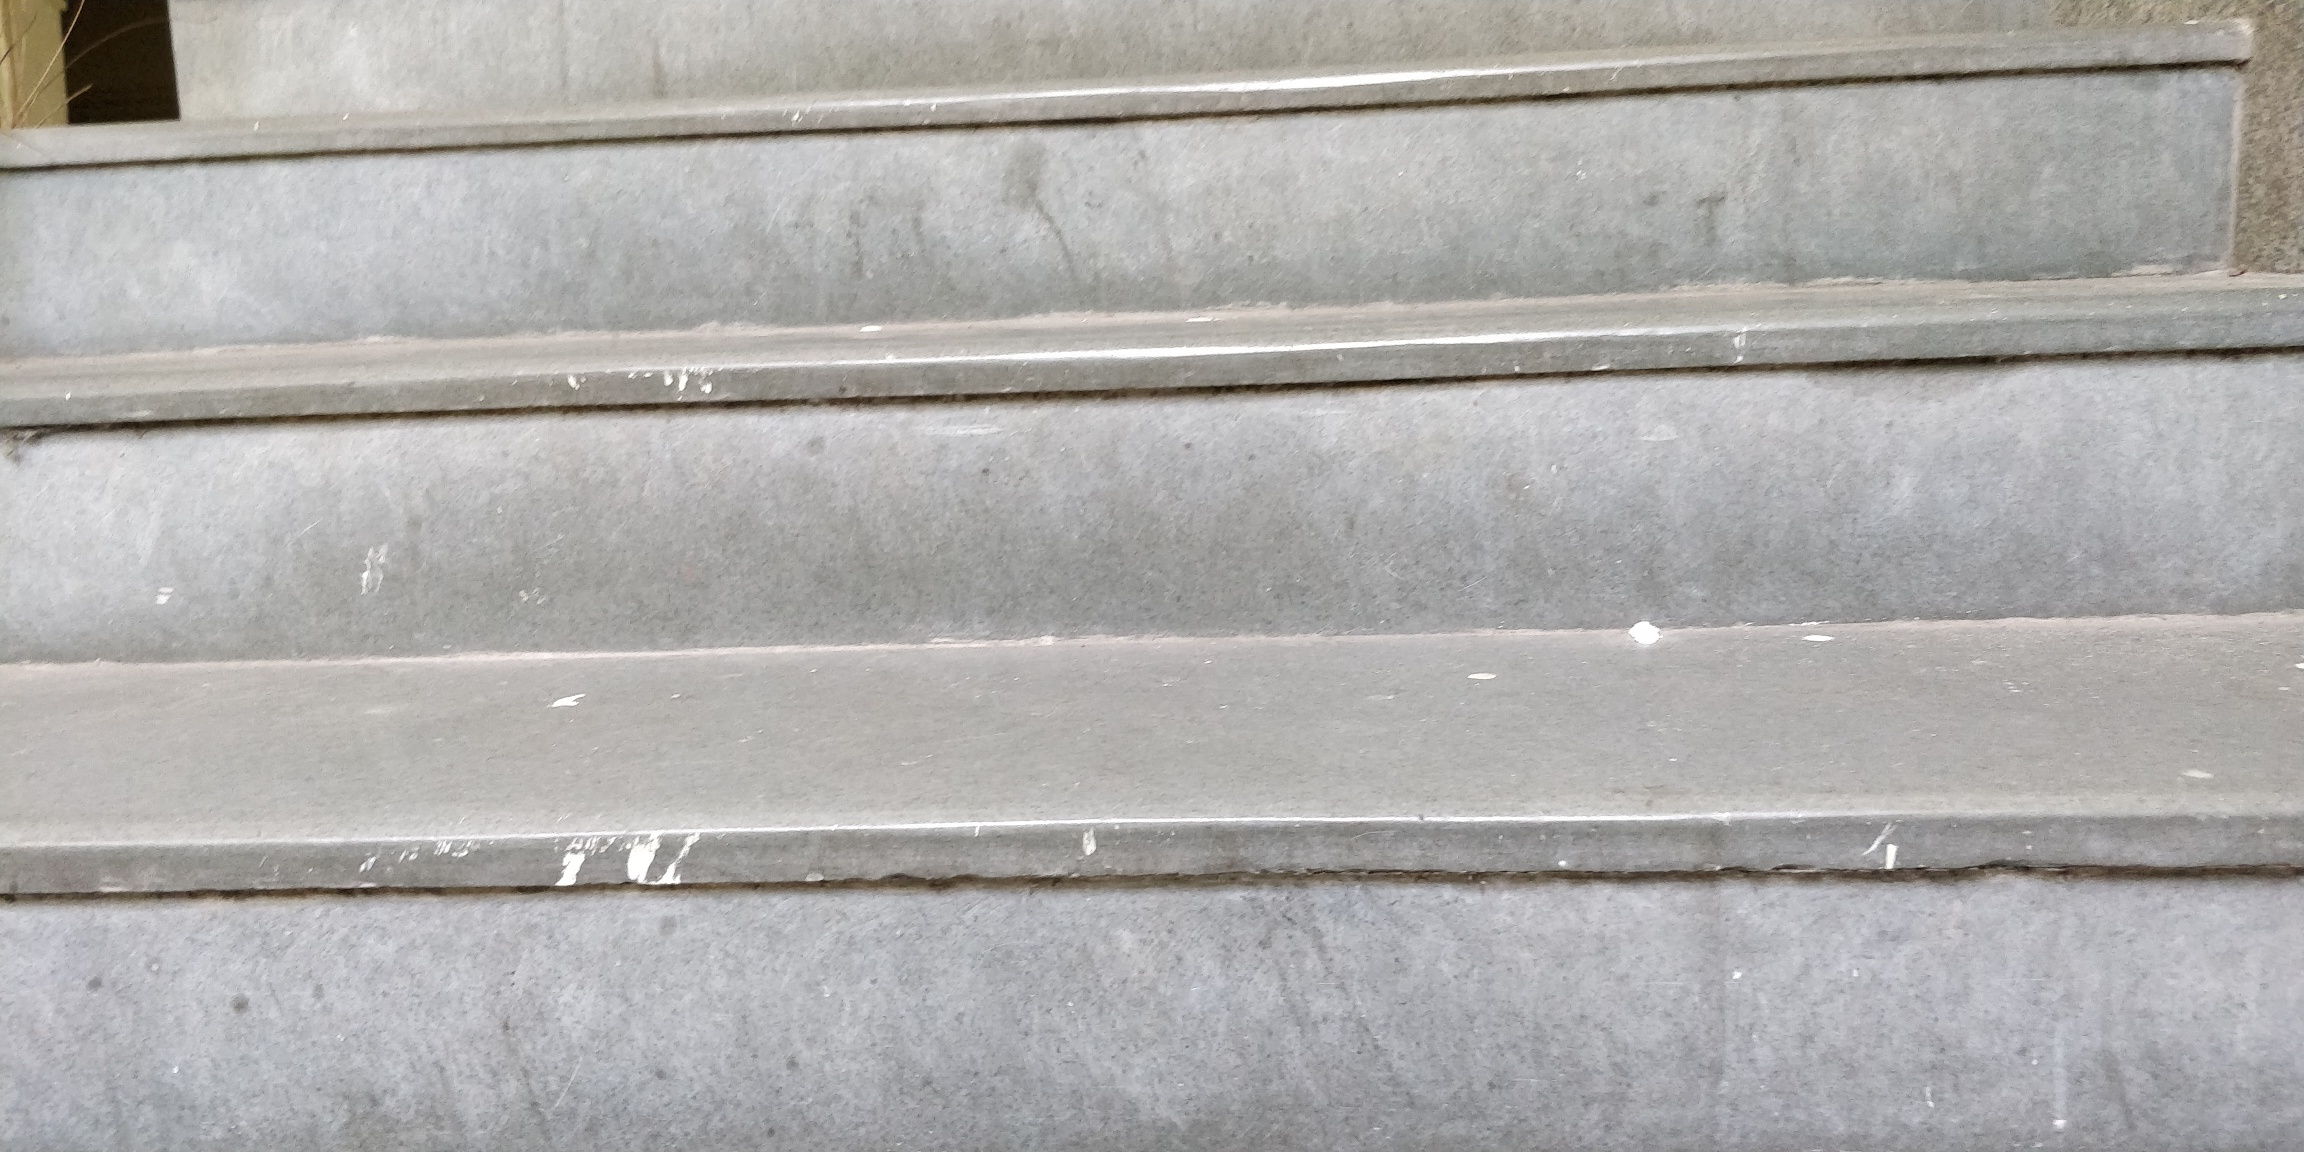stairs_up: (10, 112, 2280, 1152)
